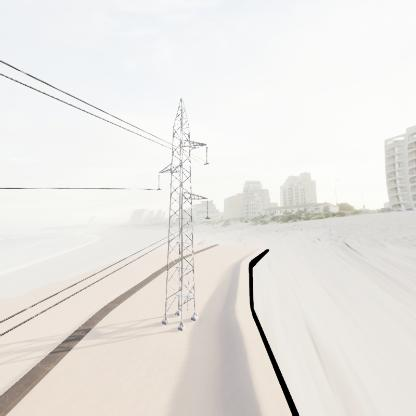tower: (150, 95, 212, 331)
